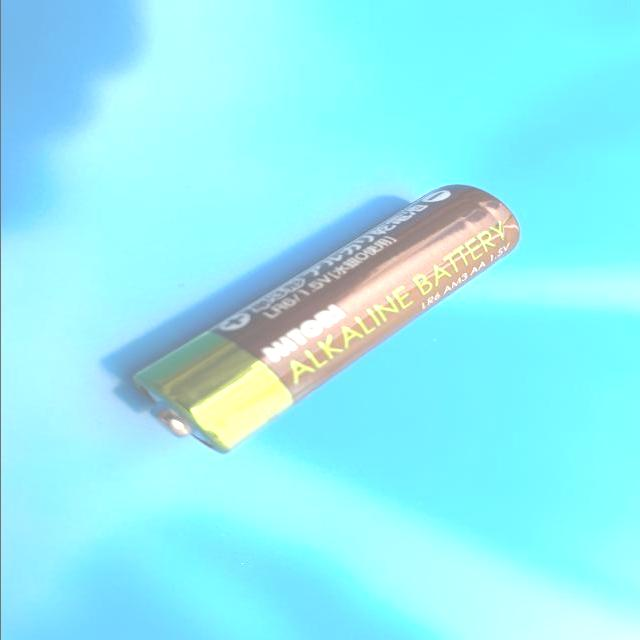AA: (124, 182, 520, 456)
